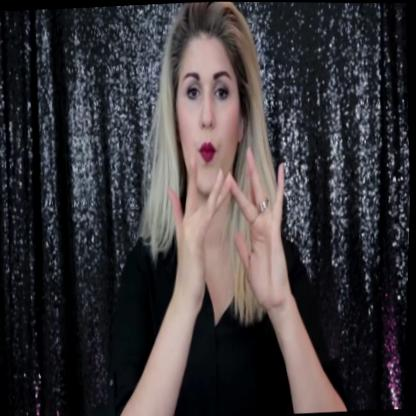Internet: (163, 150, 304, 312)
